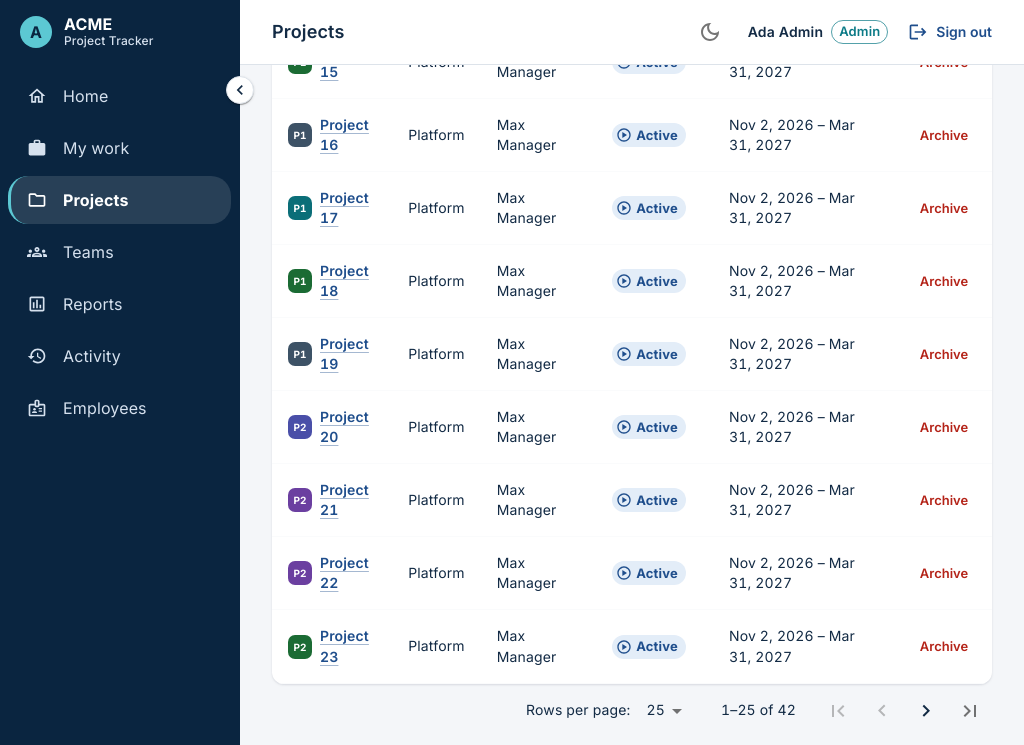
Scenario: Long lists come a page at a time › Projects: a filter that shortens the list starts again at the first page
(page scrolled)
Click the button named "Go to next page": (926, 710) [904, 688, 948, 732]
(page scrolled)
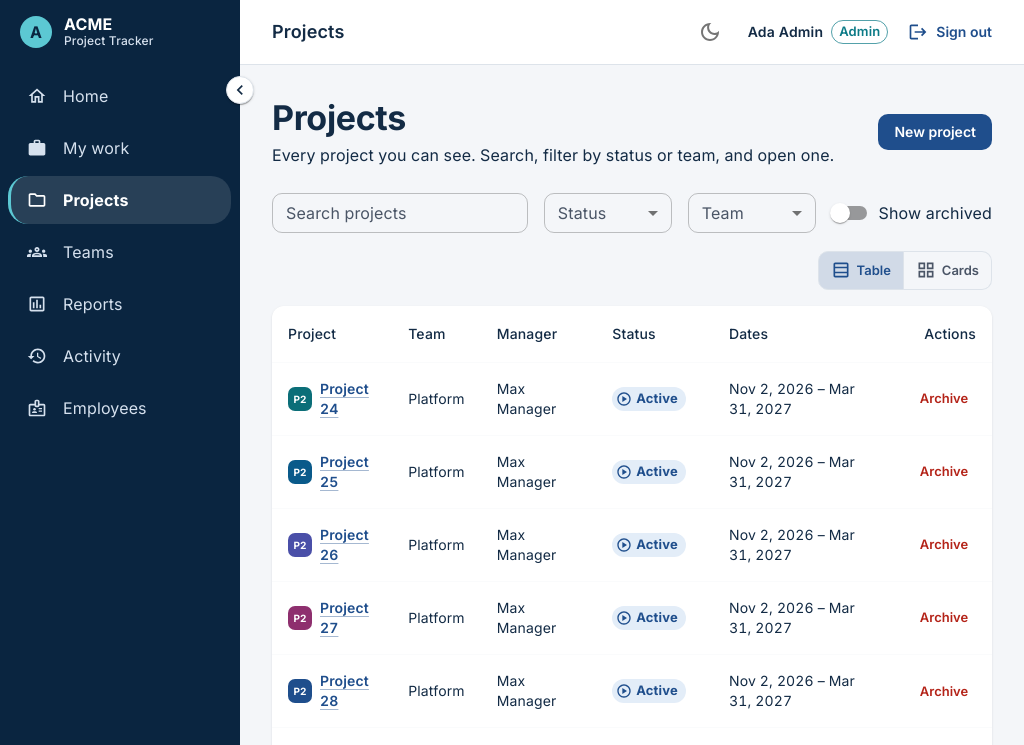
Click the 1st dropdown named "Status": (608, 213) [544, 193, 672, 233]
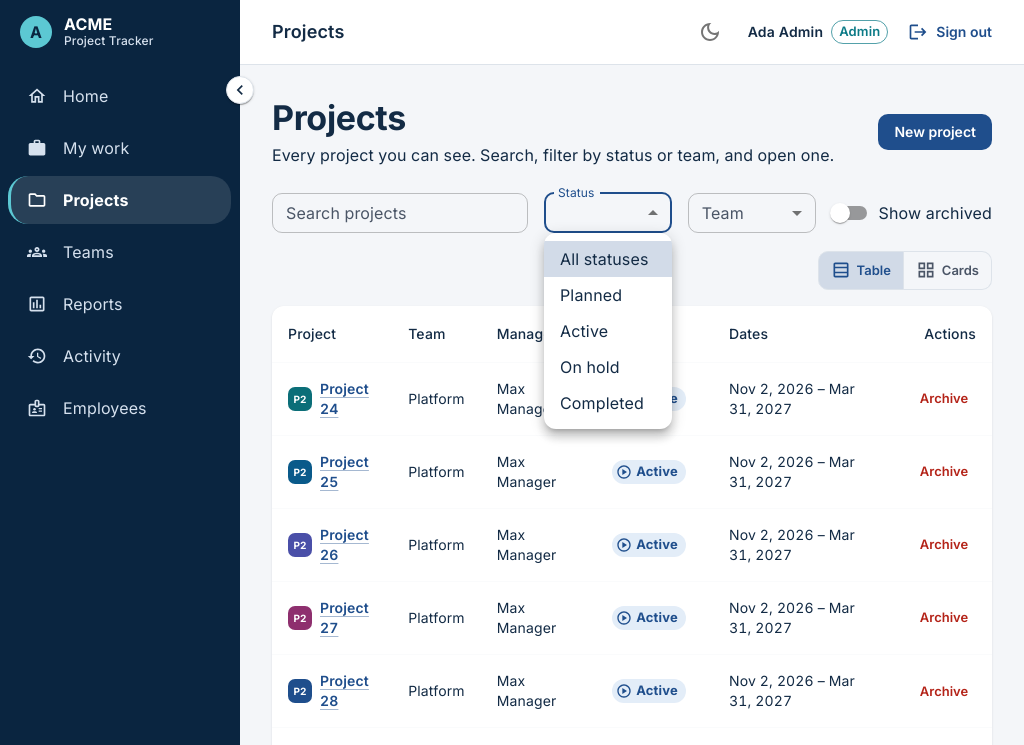
Click the option "Planned": (591, 295) [560, 285, 622, 305]
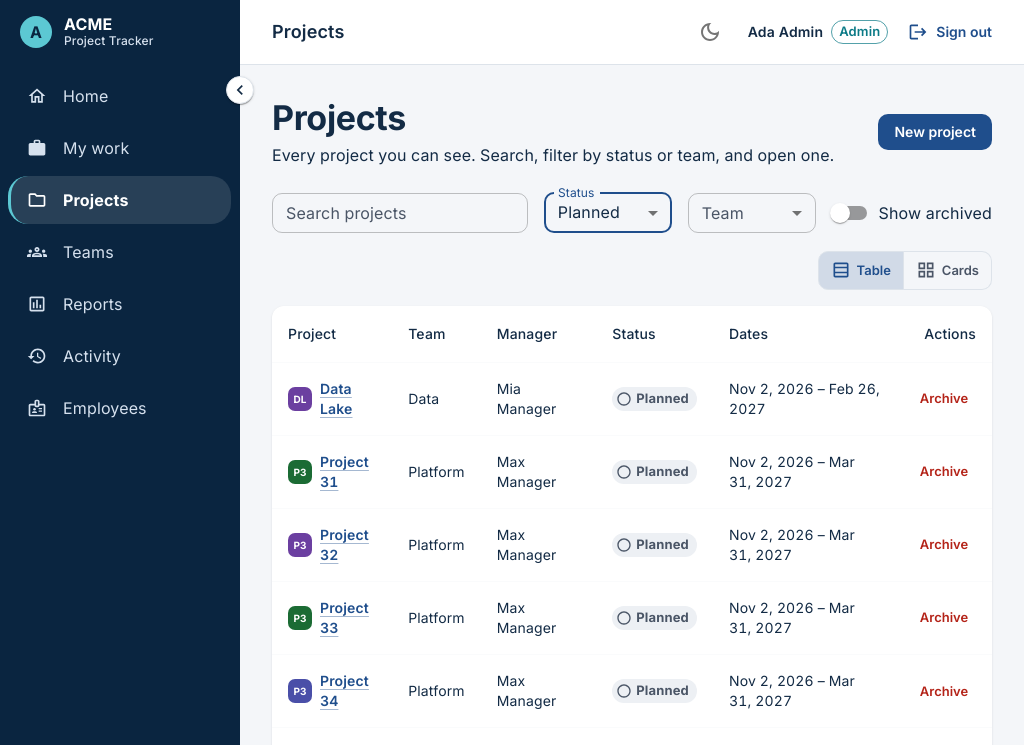
Click the dropdown named "Status": (589, 212) [558, 202, 620, 222]
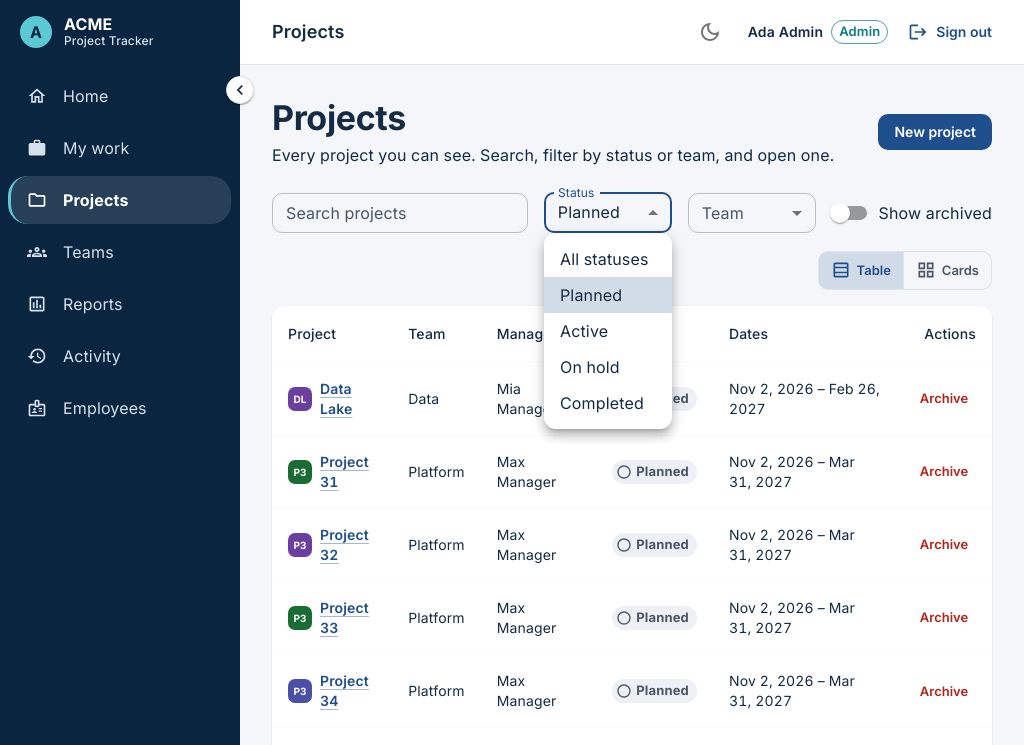
Click the option "Active": (584, 331) [560, 321, 608, 341]
(page scrolled)
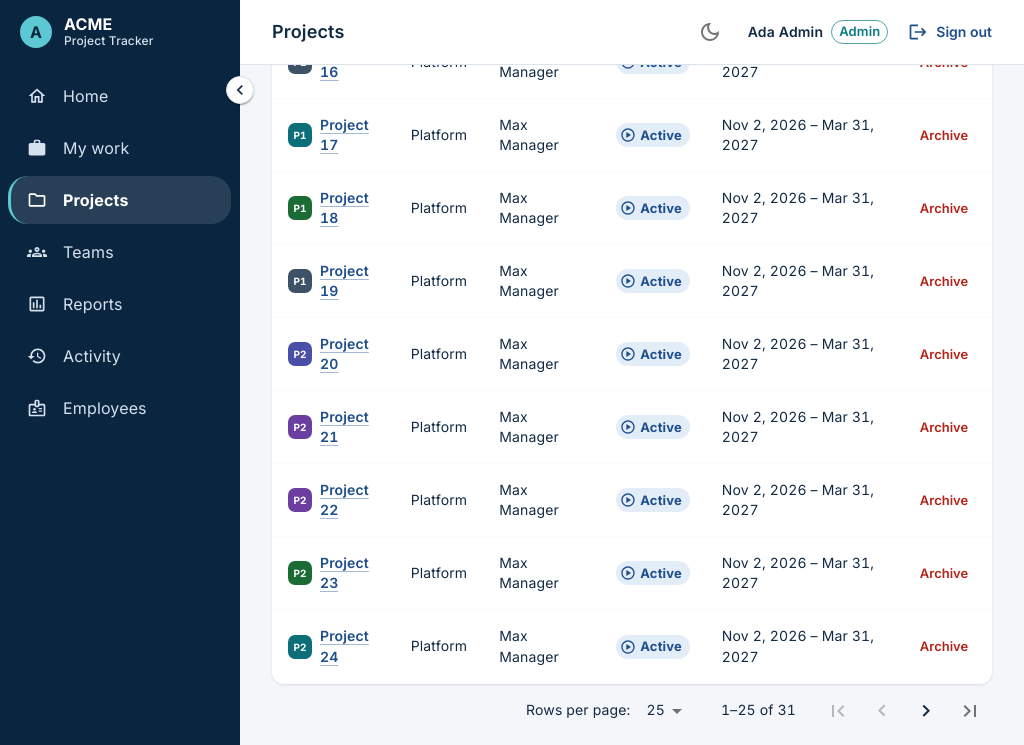
expect the navigation bar named "Projects pages" shows "1–25 of 31": met, box [721, 702, 796, 718]
